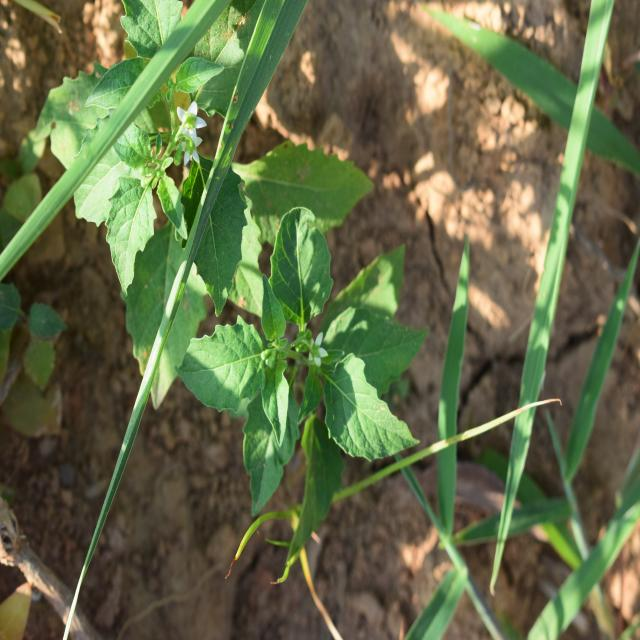Black_nightshade: (70, 32, 268, 298), (208, 208, 404, 476)
